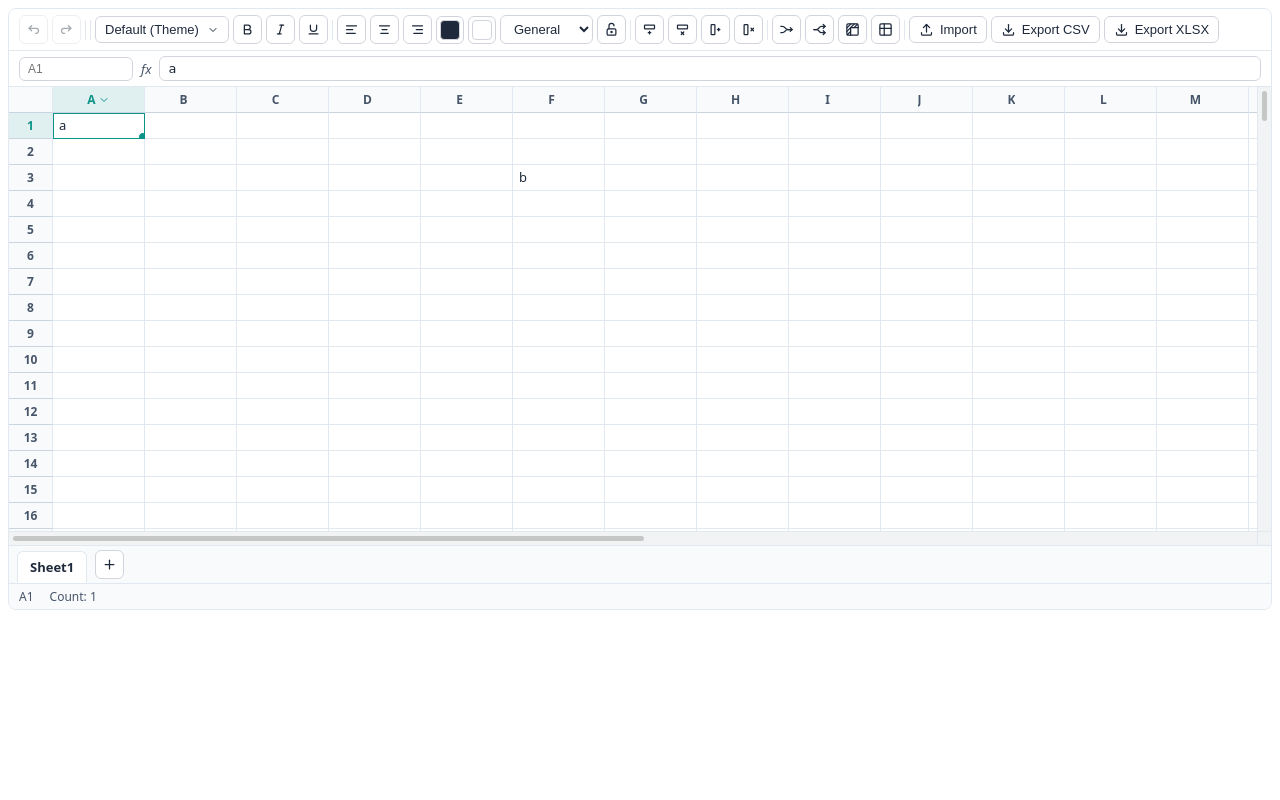
Scenario: copying a multiple selection › ranges that line up in neither direction are refused, with the reason
The width and height of the screenshot is (1280, 800).
Press the mouse on the cell "b" at (559, 178), box [513,165,605,191]
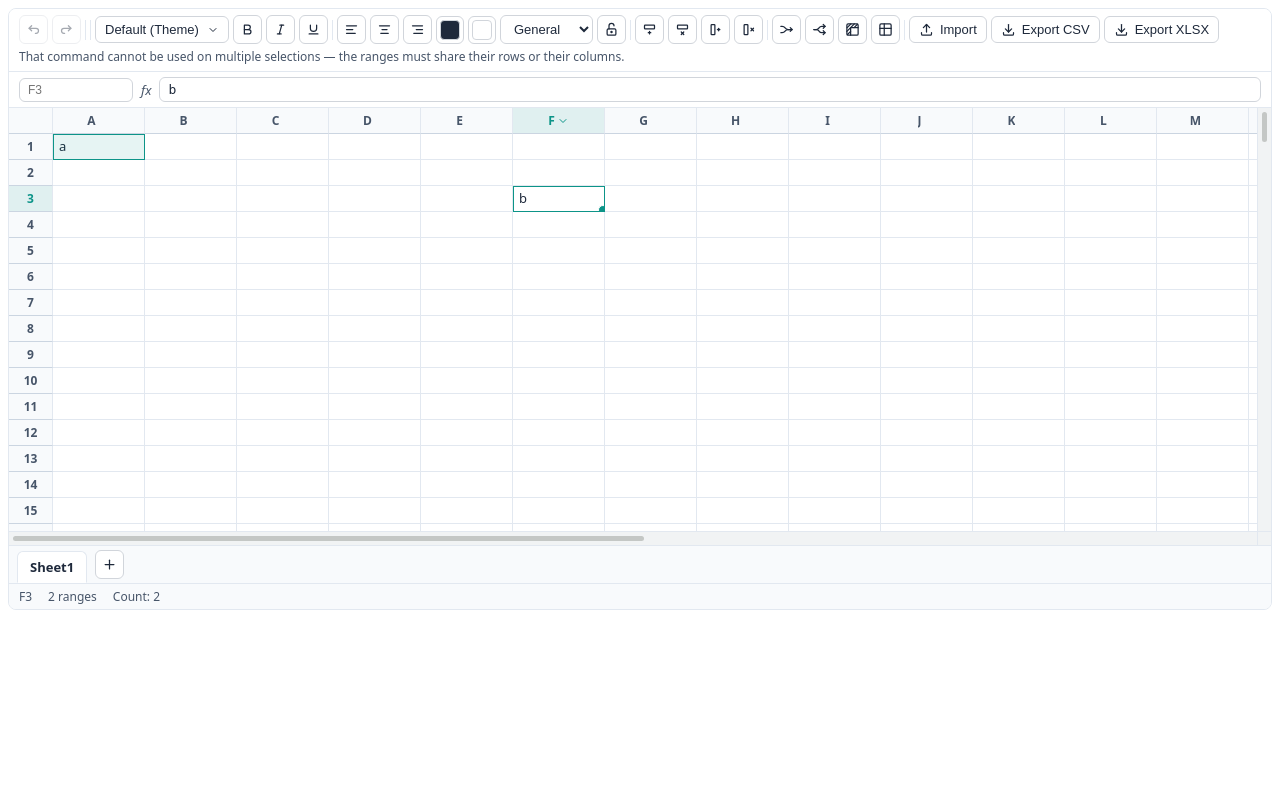
Expected: the text "cannot be used on multiple selections" is shown, [19,48,624,65]
